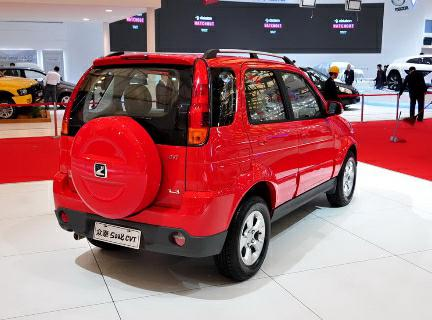众泰-5008: (49, 56, 360, 282)
